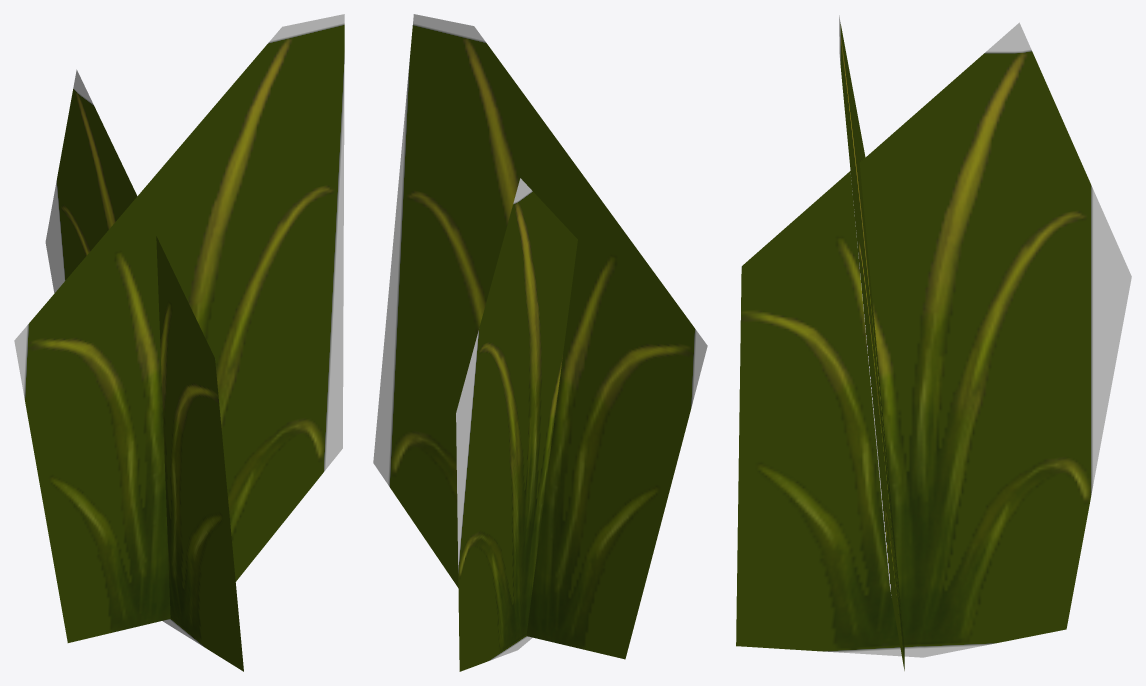
Rendered from grass01.FBX.
The picture shows the model from 3 angles, left to right: view 1: azimuth 30°, elevation 25°; view 2: azimuth 150°, elevation 25°; view 3: azimuth 270°, elevation 25°; orthographic projection. The views are drawn at different scales.
Parts seen in each view (by area): view 1: grass01; view 2: grass01; view 3: grass01.
Part boxes in pixels (box(x1,y1,x2,y2)): grass01: box(14, 14, 344, 671); grass01: box(373, 14, 707, 671); grass01: box(736, 15, 1131, 670).
Size of the model in its own units: 0.754 by 1.28 by 0.6669.
